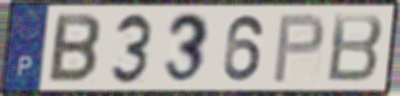3: (161, 10, 216, 87), (108, 11, 155, 86)
6: (222, 12, 266, 84)
B: (324, 11, 386, 85), (45, 11, 103, 86)
P: (270, 12, 327, 86)
